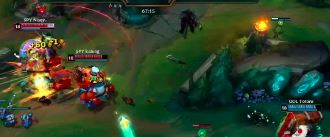bar: (67, 52, 110, 62), (279, 102, 322, 112), (12, 21, 58, 30)
